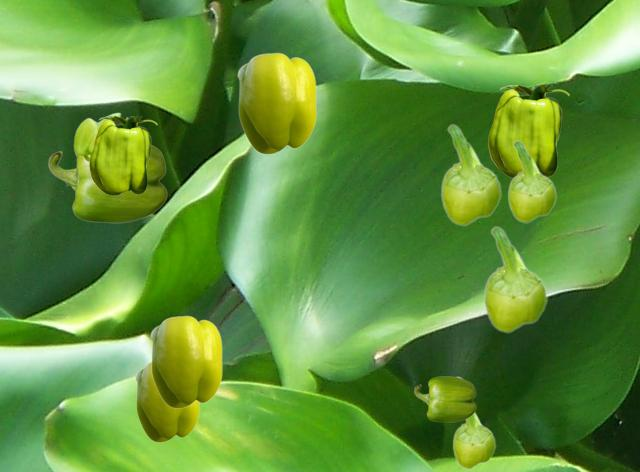bell_pepper: (48, 144, 166, 222), (237, 52, 315, 153), (488, 85, 568, 177), (483, 226, 547, 332), (150, 315, 221, 407), (440, 124, 501, 225), (89, 116, 156, 194), (135, 361, 198, 441), (507, 140, 556, 222), (414, 376, 475, 421), (452, 412, 495, 468), (73, 112, 120, 161)
